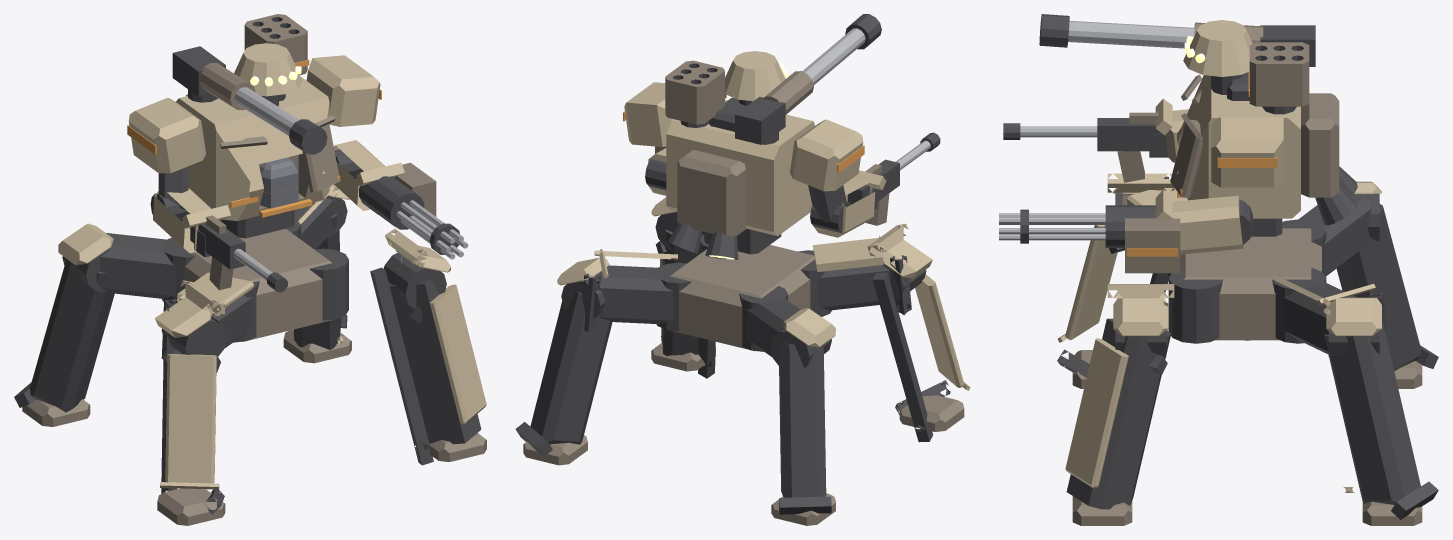
The model's file is tarantula.glb.
3 views of the same model, side by side, from view 1: azimuth 30°, elevation 25°; view 2: azimuth 150°, elevation 25°; view 3: azimuth 270°, elevation 25° (orthographic). The views are drawn at different scales.
Visible parts, largest first — view 1: core, lower11, lower-1-1, hull, lower-11_front, shoulder-1, upper-1-1, lower11_front, shoulder1, helm, forearm-1, kneeguard-11 (+31 smaller); view 2: hull, core, lower1-1, lower-1-1, pack, upper1-1, shoulder-1, vmissile1, lower-11, upper-11, lower-11_front, shoulder1 (+31 smaller); view 3: lower1-1, hull, lower11, core, lower-1-1, lower11_front, shoulder1, forearm1, pack, vmissile1, hipball11, helm (+34 smaller).
Part boxes in pixels (<box>): core: <box>176,77,329,221</box>; lower11: <box>370,267,481,465</box>; lower-1-1: <box>14,259,114,412</box>; hull: <box>177,228,333,341</box>; lower-11_front: <box>160,354,219,489</box>; shoulder-1: <box>128,97,205,173</box>; upper-1-1: <box>100,233,175,298</box>; lower11_front: <box>430,284,486,423</box>; shoulder1: <box>306,55,380,126</box>; helm: <box>234,43,302,96</box>; forearm-1: <box>153,188,230,253</box>; kneeguard-11: <box>155,280,223,337</box>; hull: <box>668,245,814,351</box>; core: <box>666,99,814,236</box>; lower1-1: <box>515,291,612,456</box>; lower-1-1: <box>779,343,831,514</box>; pack: <box>677,150,745,236</box>; upper1-1: <box>582,265,673,332</box>; shoulder-1: <box>789,119,863,191</box>; vmissile1: <box>665,60,724,124</box>; lower-11: <box>872,272,950,442</box>; upper-11: <box>818,255,911,315</box>; lower-11_front: <box>915,274,970,390</box>; shoulder1: <box>624,82,672,146</box>; lower1-1: <box>1324,321,1438,519</box>; hull: <box>1180,228,1321,340</box>; lower11: <box>1066,318,1171,509</box>; core: <box>1177,75,1300,218</box>; lower-1-1: <box>1336,204,1438,370</box>; lower11_front: <box>1065,338,1128,488</box>; shoulder1: <box>1211,117,1283,187</box>; forearm1: <box>1155,189,1243,254</box>; pack: <box>1301,93,1339,197</box>; vmissile1: <box>1249,42,1309,106</box>; hipball11: <box>1168,267,1222,343</box>; helm: <box>1183,20,1252,76</box>.
Bounding box in the file's own units: 19.38 × 22.07 × 20.62.
